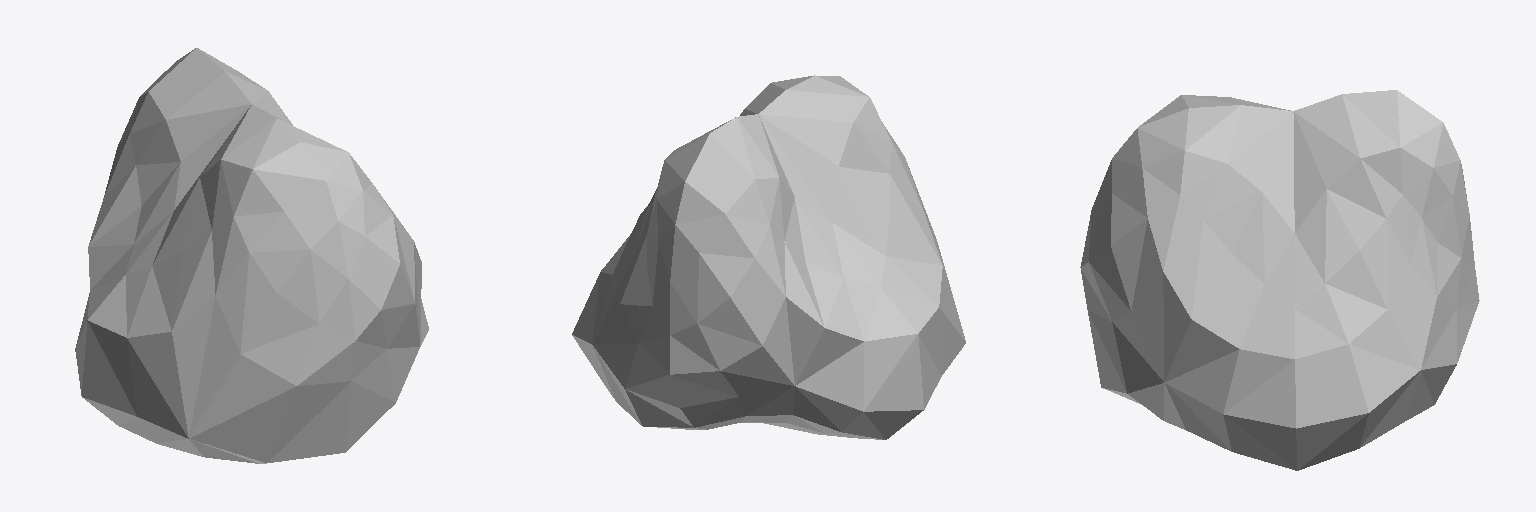
The model's file is rock2.obj.
3 views of the same model, side by side, from view 1: azimuth 30°, elevation 25°; view 2: azimuth 150°, elevation 25°; view 3: azimuth 270°, elevation 25° (orthographic).
Parts seen in each view (by area): view 1: rock.003; view 2: rock.003; view 3: rock.003.
Part boxes in pixels (x1,y1,x2,y2): rock.003: (75, 48, 428, 463); rock.003: (572, 75, 965, 439); rock.003: (1080, 90, 1479, 470).
Bounding box in the file's own units: 1.17 × 1.12 × 1.22.